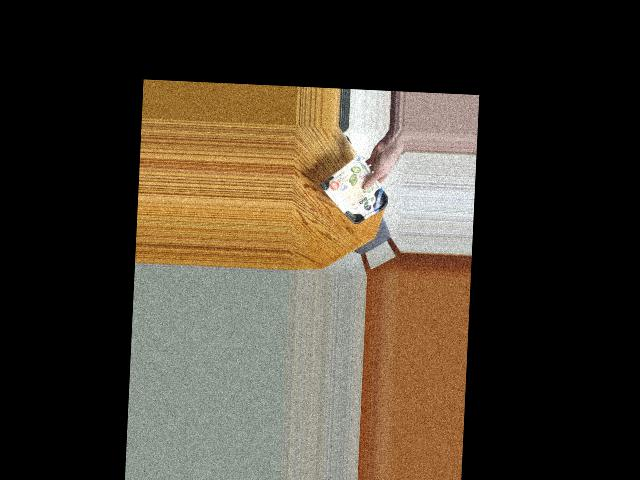cheese: (327, 165, 384, 225)
